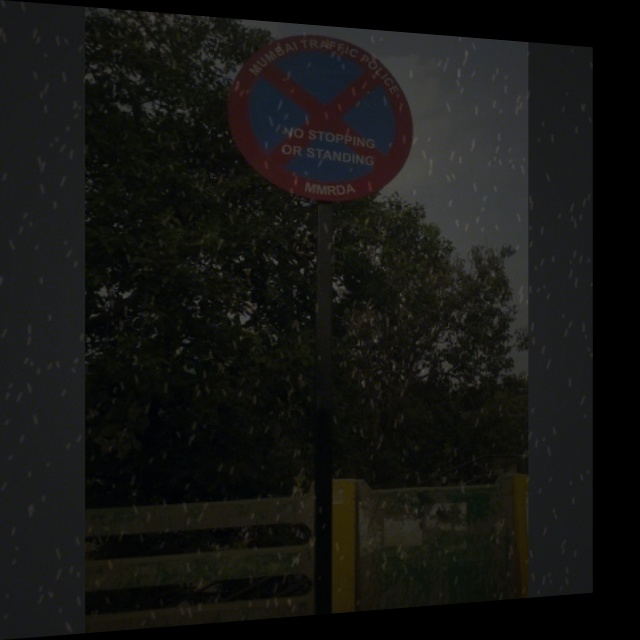No_Stopping_or_Standing: (229, 24, 420, 214)
